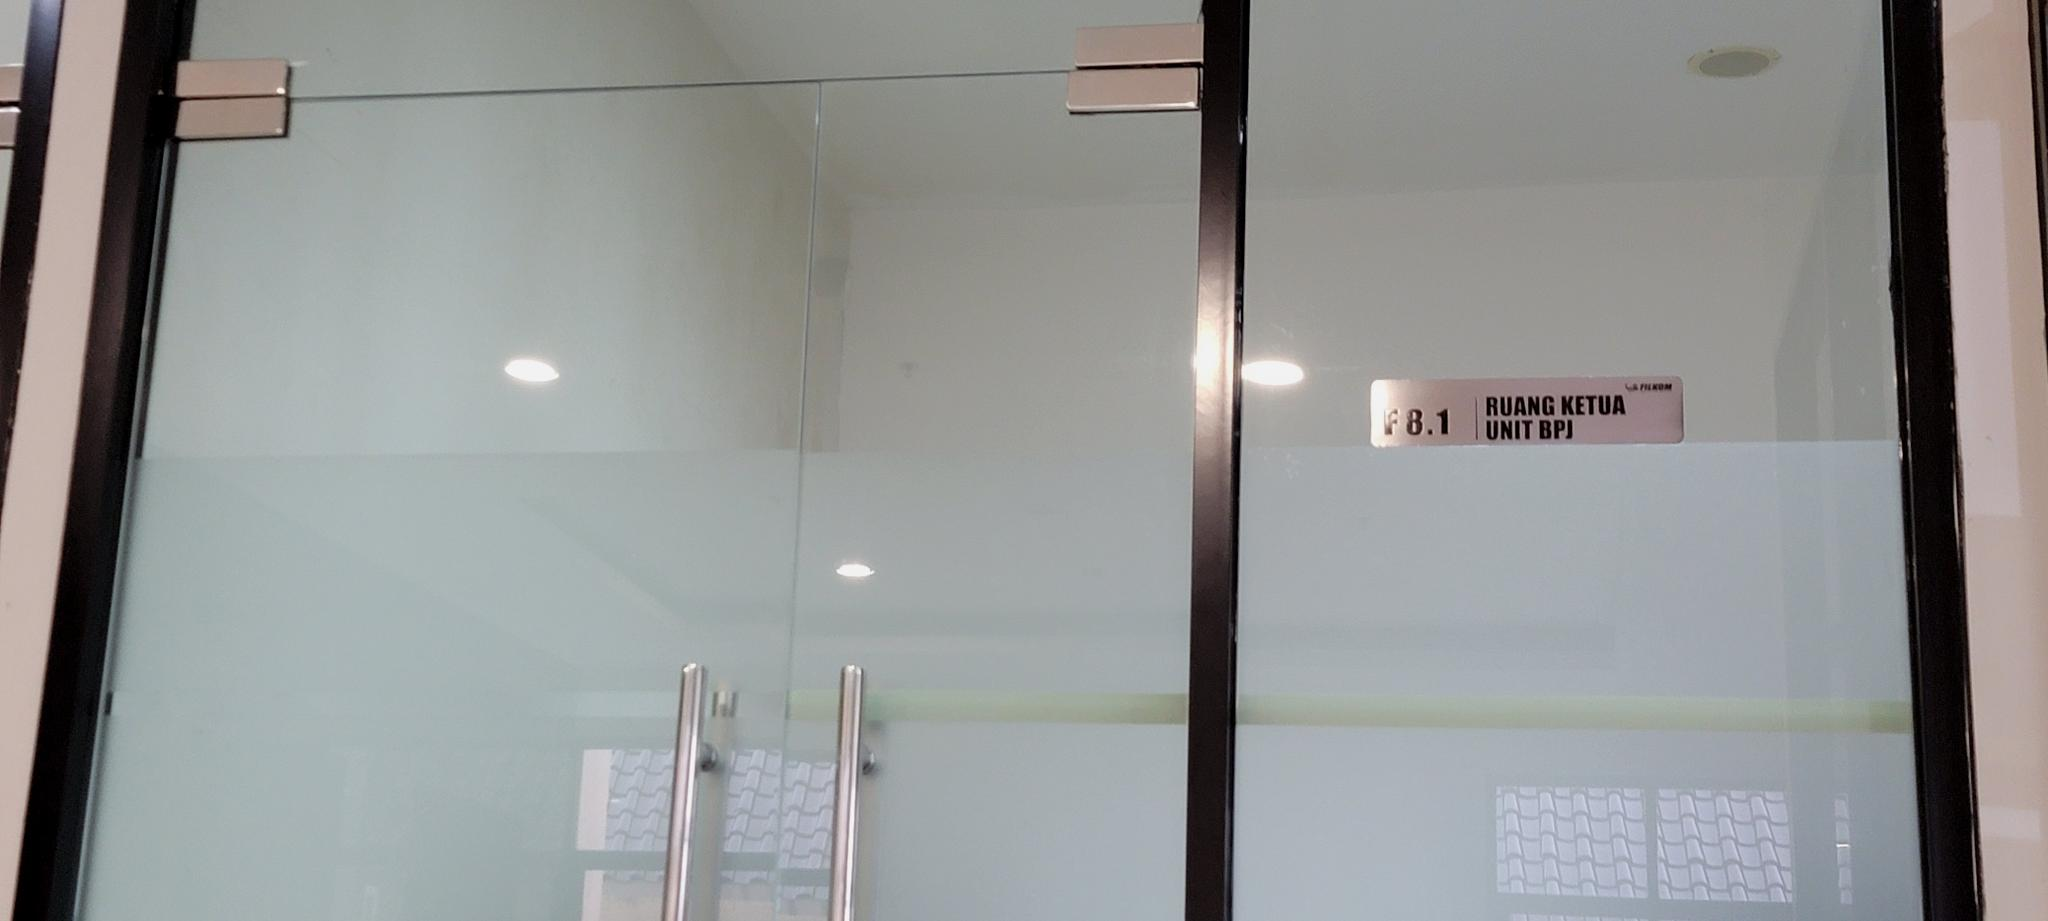plate: (1368, 375, 1686, 453)
